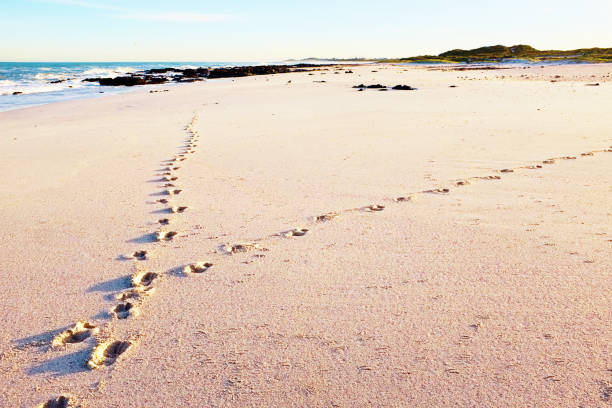human_foot_print: (52, 321, 134, 368), (87, 339, 133, 369), (51, 320, 98, 347), (115, 286, 155, 300), (35, 395, 81, 407), (219, 242, 262, 254), (111, 301, 139, 318), (131, 270, 158, 287), (183, 261, 212, 273), (280, 228, 308, 237), (314, 212, 339, 221), (156, 230, 177, 240), (361, 204, 385, 212), (131, 250, 147, 260), (393, 195, 415, 201), (423, 188, 449, 193), (169, 206, 187, 212), (475, 175, 500, 179), (166, 189, 181, 195), (521, 165, 541, 169), (164, 166, 179, 171), (455, 180, 470, 185), (174, 154, 186, 160), (163, 175, 177, 180), (158, 218, 169, 224), (156, 198, 168, 203), (499, 168, 513, 172), (160, 171, 173, 175), (580, 152, 593, 156), (560, 156, 576, 159), (163, 183, 175, 187), (542, 159, 554, 163)
